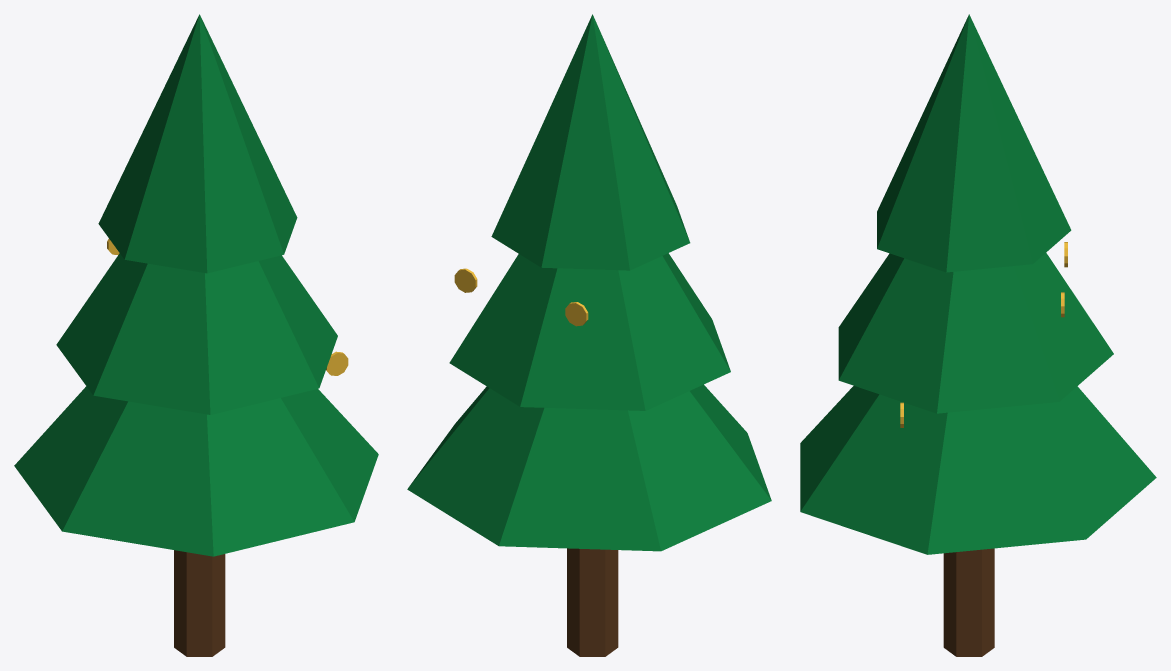
The model's file is Prop_OR_LedgerTree_13.glb.
3 renders of one model, left to right at view 1: azimuth 30°, elevation 25°; view 2: azimuth 150°, elevation 25°; view 3: azimuth 270°, elevation 25°, orthographic.
Visible parts, largest first — view 1: Prop_OR_LedgerTree_13; view 2: Prop_OR_LedgerTree_13; view 3: Prop_OR_LedgerTree_13.
Part boxes in pixels (x1,y1,x2,y2): Prop_OR_LedgerTree_13: (14, 14, 378, 656); Prop_OR_LedgerTree_13: (407, 14, 771, 656); Prop_OR_LedgerTree_13: (800, 14, 1156, 656).
Bounding box in the file's own units: 2.14 × 4.1 × 2.09.
